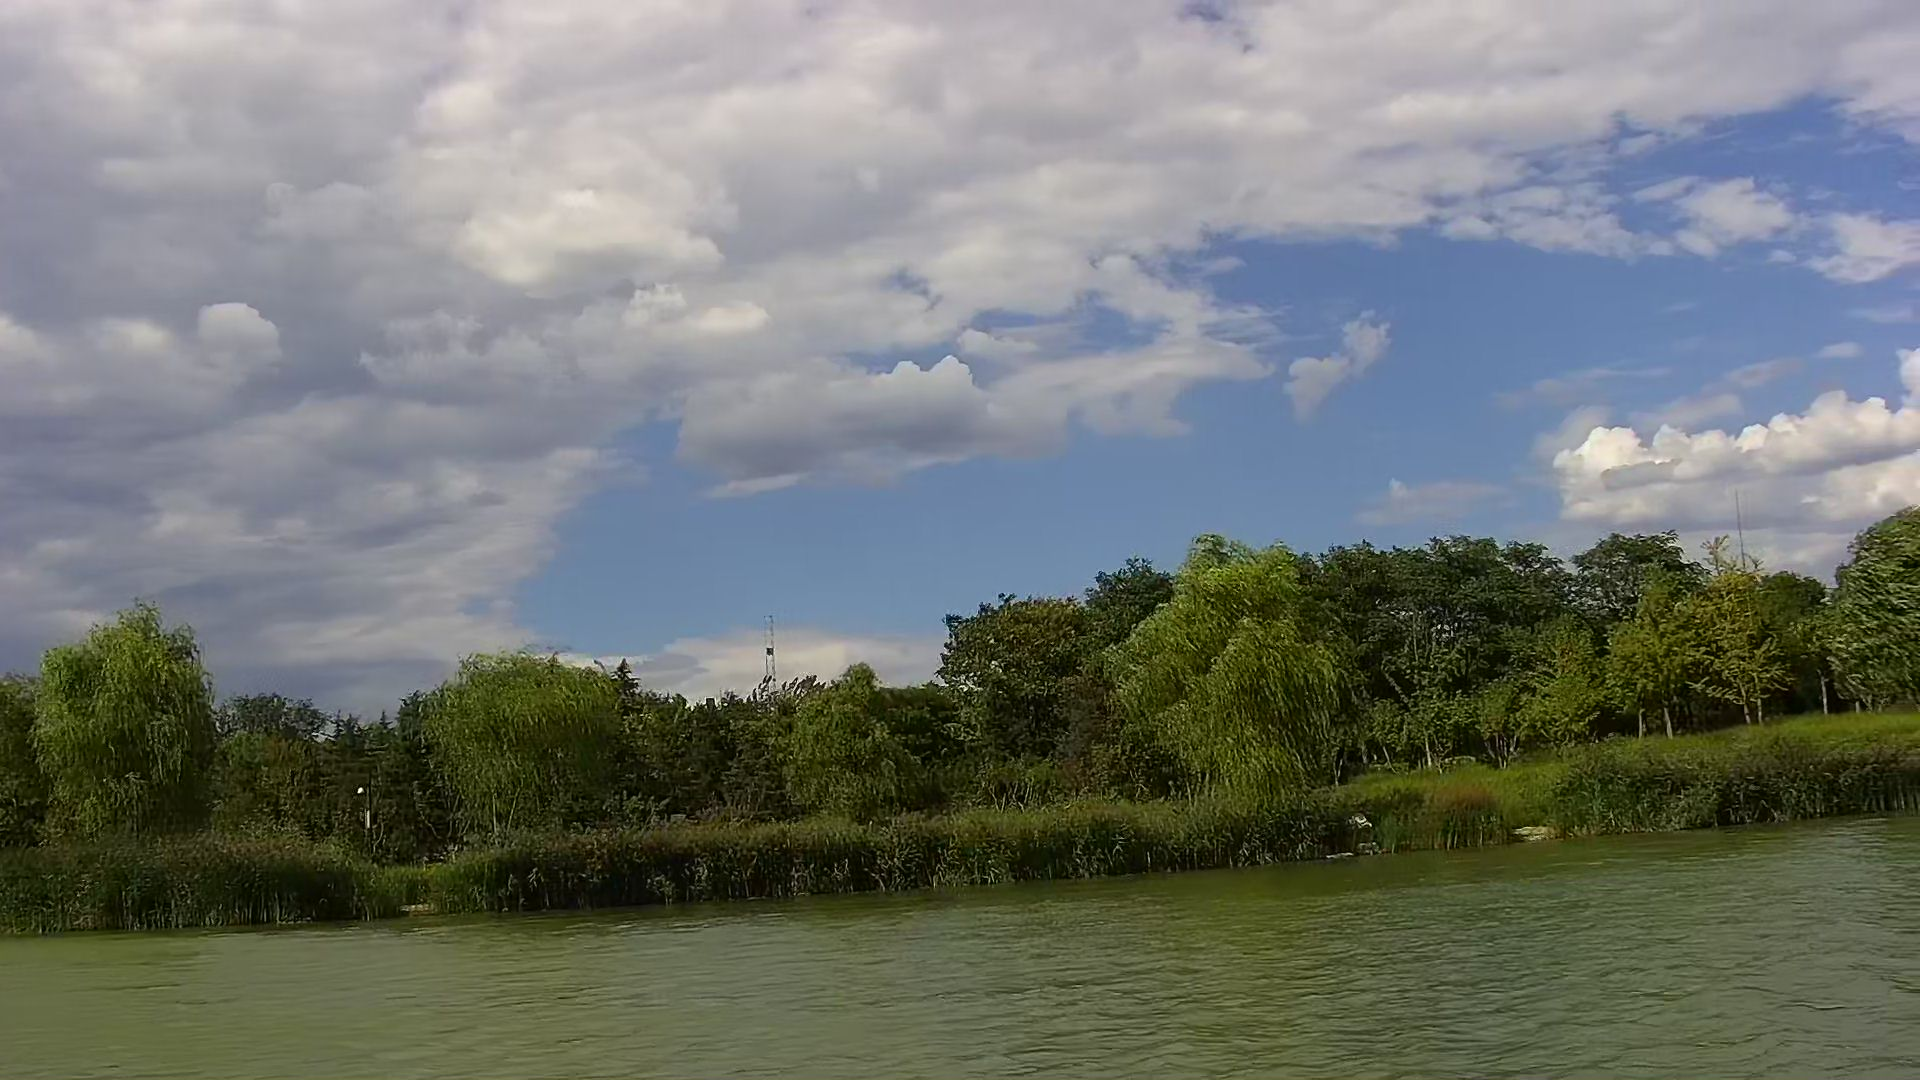rock: (1509, 823, 1557, 845)
